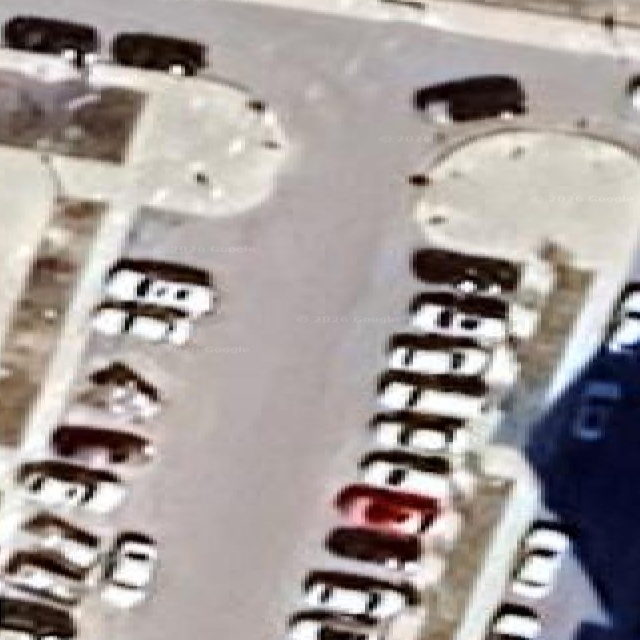car: (324, 526, 445, 590), (412, 247, 554, 300), (388, 333, 518, 389), (105, 259, 216, 316), (377, 370, 498, 419), (17, 460, 125, 513), (303, 571, 418, 619), (409, 291, 509, 345), (414, 75, 526, 122), (335, 484, 439, 534), (412, 248, 521, 294), (79, 361, 160, 422), (359, 450, 451, 503), (2, 15, 99, 64), (2, 550, 86, 606), (512, 522, 570, 598), (22, 512, 99, 568), (101, 532, 157, 608), (325, 527, 421, 571), (50, 424, 153, 465), (93, 302, 190, 345), (370, 410, 469, 452), (111, 33, 206, 75), (0, 596, 75, 639), (573, 380, 621, 440), (285, 611, 382, 639), (606, 284, 640, 353), (486, 603, 540, 639)
